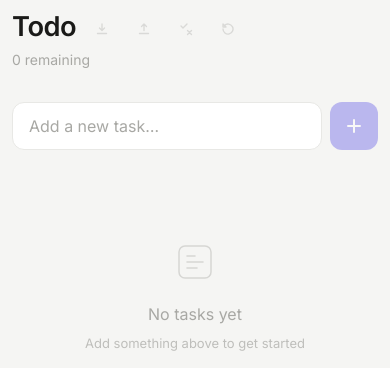
Scenario: TodoApp › shows "All done ✓" when every todo is checked
Type "Task" into the field with class "add-input" at (167, 126), box x1=12 y1=102 x2=322 y2=150
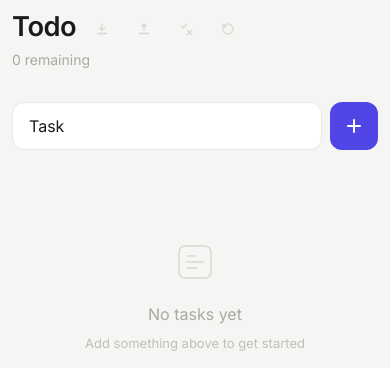
Submit the form with class "add-form", box x1=12 y1=102 x2=378 y2=150
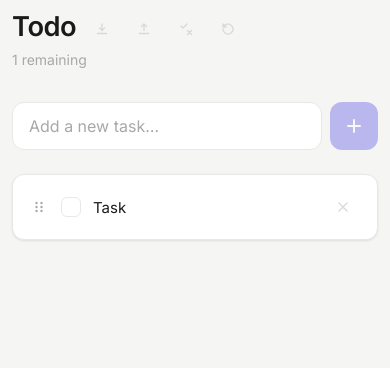
Click the checkbox at (71, 207), box x1=61 y1=197 x2=81 y2=217
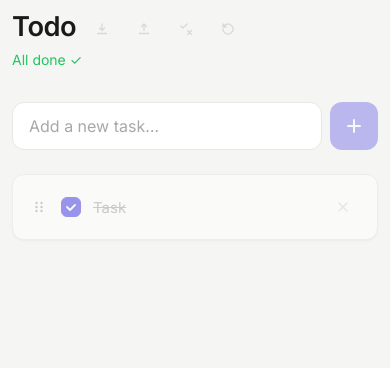
Now the text with class "subtitle" reads "All done ✓", box x1=12 y1=51 x2=82 y2=68
